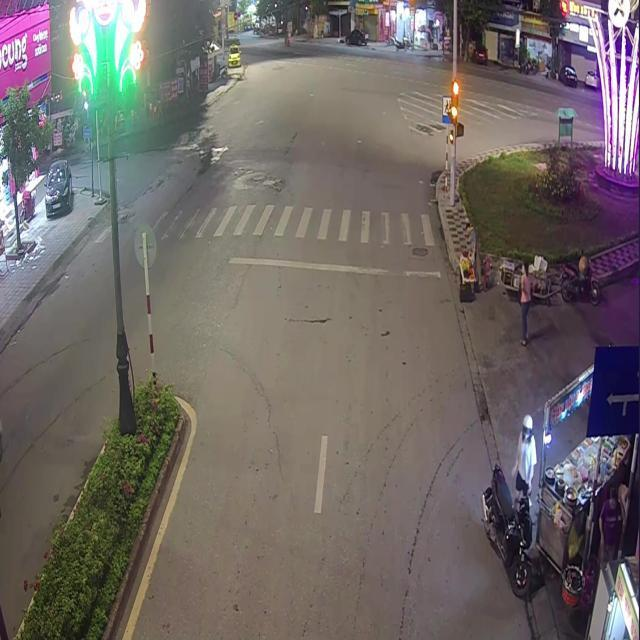motobike: (481, 485, 532, 596)
stop_line: (226, 256, 440, 277)
yellow_light: (450, 92, 457, 125)
